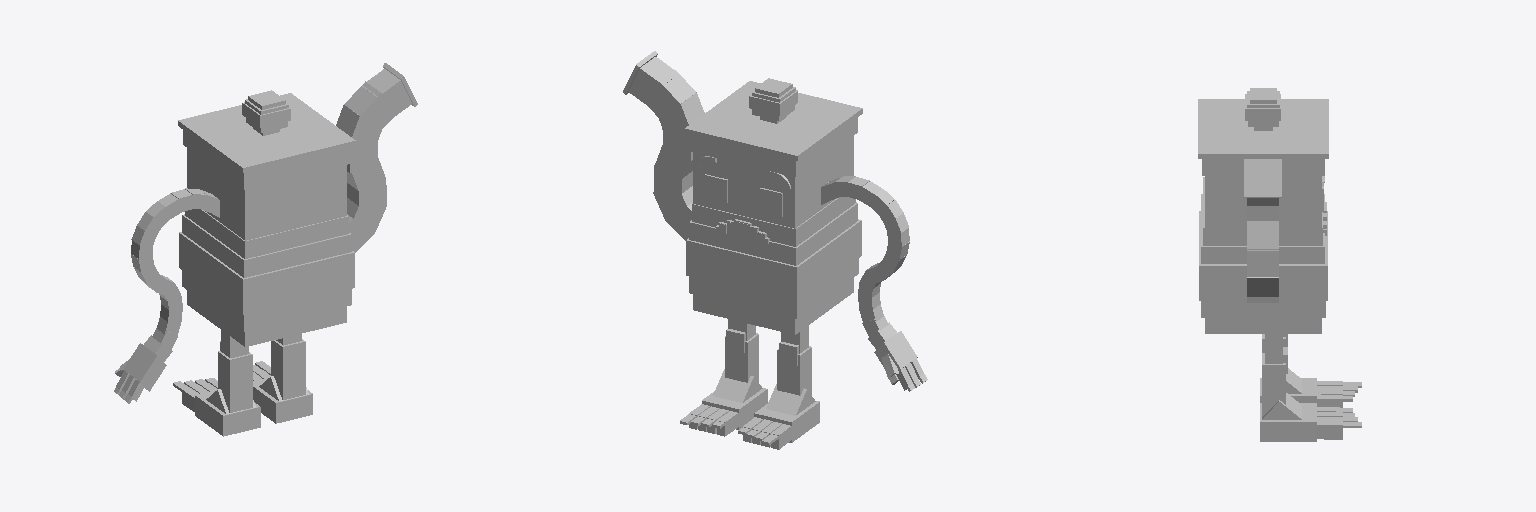
Rendered from Ta Ta Ta Ta Sahur.obj.
3 views of the same model, side by side, from view 1: azimuth 30°, elevation 25°; view 2: azimuth 150°, elevation 25°; view 3: azimuth 270°, elevation 25° (orthographic).
Parts seen in each view (by area): view 1: Cube1, Cube0031, Cube0011, Cube0021; view 2: Cube1, Cube0031, Cube0011, Cube0021, Cube0051, Plane1; view 3: Cube1, Cube0031, Cube0011.
Boxes of the visible parts, x1,y1,x2,y2 form: Cube1: [178, 90, 355, 346]; Cube0031: [173, 330, 312, 436]; Cube0011: [336, 63, 417, 252]; Cube0021: [114, 188, 219, 403]; Cube1: [685, 78, 862, 334]; Cube0031: [680, 319, 819, 449]; Cube0011: [623, 51, 704, 240]; Cube0021: [821, 176, 927, 391]; Cube0051: [705, 174, 782, 216]; Plane1: [716, 219, 769, 243]; Cube1: [1198, 88, 1328, 333]; Cube0031: [1260, 334, 1361, 441]; Cube0011: [1244, 159, 1281, 302].
Size of the model in its own units: 6.8 by 7.35 by 3.34.